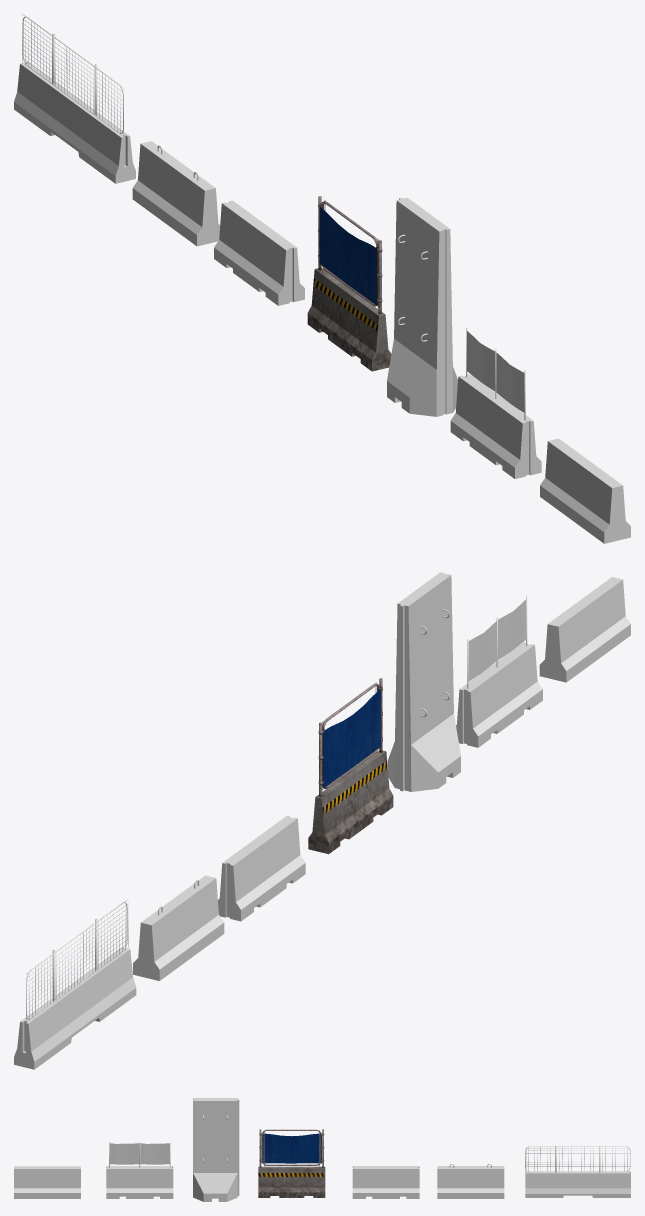
Rendered from barriersexport.fbx.
3 views of the same model, one above another, from view 1: azimuth 30°, elevation 25°; view 2: azimuth 150°, elevation 25°; view 3: azimuth 270°, elevation 25° (orthographic). The views are drawn at different scales.
Visible parts, largest first — view 1: Cube.007, Cube.006, Cube.002, Cube.003, Cube.005, Cube.001, Cube.008, Plane.006, Plane, Cylinder.004, Cylinder.003; view 2: Cube.007, Cube.006, Cube.002, Cube.001, Cube.003, Cube.005, Cube.008, Plane.006, Plane, Cylinder.004, Cylinder.003; view 3: Cube.007, Cube.006, Cube.001, Cube.003, Cube.005, Cube.002, Cube.008, Plane.006, Plane, Cylinder.003, Cylinder.004, Plane.002 (+2 smaller).
Part boxes in pixels (x1=…): Cube.007: x1=387, y1=197, x2=457, y2=416; Cube.006: x1=14, y1=61, x2=135, y2=183; Cube.002: x1=540, y1=438, x2=630, y2=543; Cube.003: x1=214, y1=200, x2=304, y2=305; Cube.005: x1=450, y1=373, x2=541, y2=478; Cube.001: x1=132, y1=141, x2=220, y2=246; Cube.008: x1=307, y1=268, x2=391, y2=371; Plane.006: x1=319, y1=206, x2=377, y2=305; Plane: x1=467, y1=331, x2=524, y2=412; Cylinder.004: x1=22, y1=15, x2=123, y2=135; Cylinder.003: x1=22, y1=14, x2=123, y2=135; Cube.007: x1=388, y1=572, x2=460, y2=791; Cube.006: x1=14, y1=947, x2=136, y2=1069; Cube.002: x1=539, y1=577, x2=630, y2=682; Cube.001: x1=133, y1=875, x2=224, y2=980; Cube.003: x1=218, y1=816, x2=305, y2=921; Cube.005: x1=456, y1=642, x2=542, y2=747; Cube.008: x1=308, y1=750, x2=393, y2=854; Plane.006: x1=323, y1=689, x2=381, y2=787; Plane: x1=468, y1=599, x2=526, y2=681; Cylinder.004: x1=26, y1=900, x2=128, y2=1021; Cylinder.003: x1=26, y1=899, x2=127, y2=1021; Cube.007: x1=193, y1=1098, x2=239, y2=1201; Cube.006: x1=525, y1=1171, x2=630, y2=1197; Cube.001: x1=437, y1=1166, x2=504, y2=1198; Cube.003: x1=352, y1=1166, x2=419, y2=1198; Cube.005: x1=106, y1=1166, x2=173, y2=1198; Cube.002: x1=14, y1=1166, x2=80, y2=1198; Cube.008: x1=258, y1=1166, x2=325, y2=1197; Plane.006: x1=261, y1=1133, x2=321, y2=1163; Plane: x1=110, y1=1143, x2=169, y2=1164; Cylinder.003: x1=526, y1=1148, x2=630, y2=1166; Cylinder.004: x1=525, y1=1146, x2=627, y2=1170; Plane.002: x1=262, y1=1129, x2=321, y2=1165.
Size of the model in its own units: 50 by 175 by 1019.
